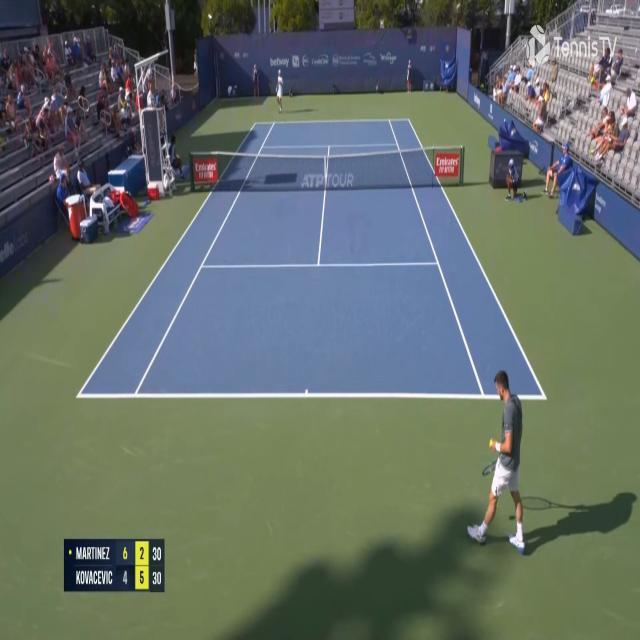tennis-player: (466, 366, 532, 555)
